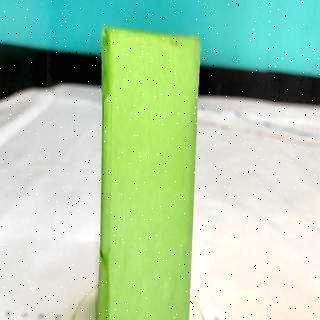greenbox: (96, 23, 202, 320)
